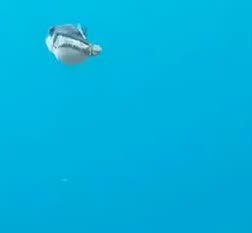hugu: (42, 24, 108, 69)
